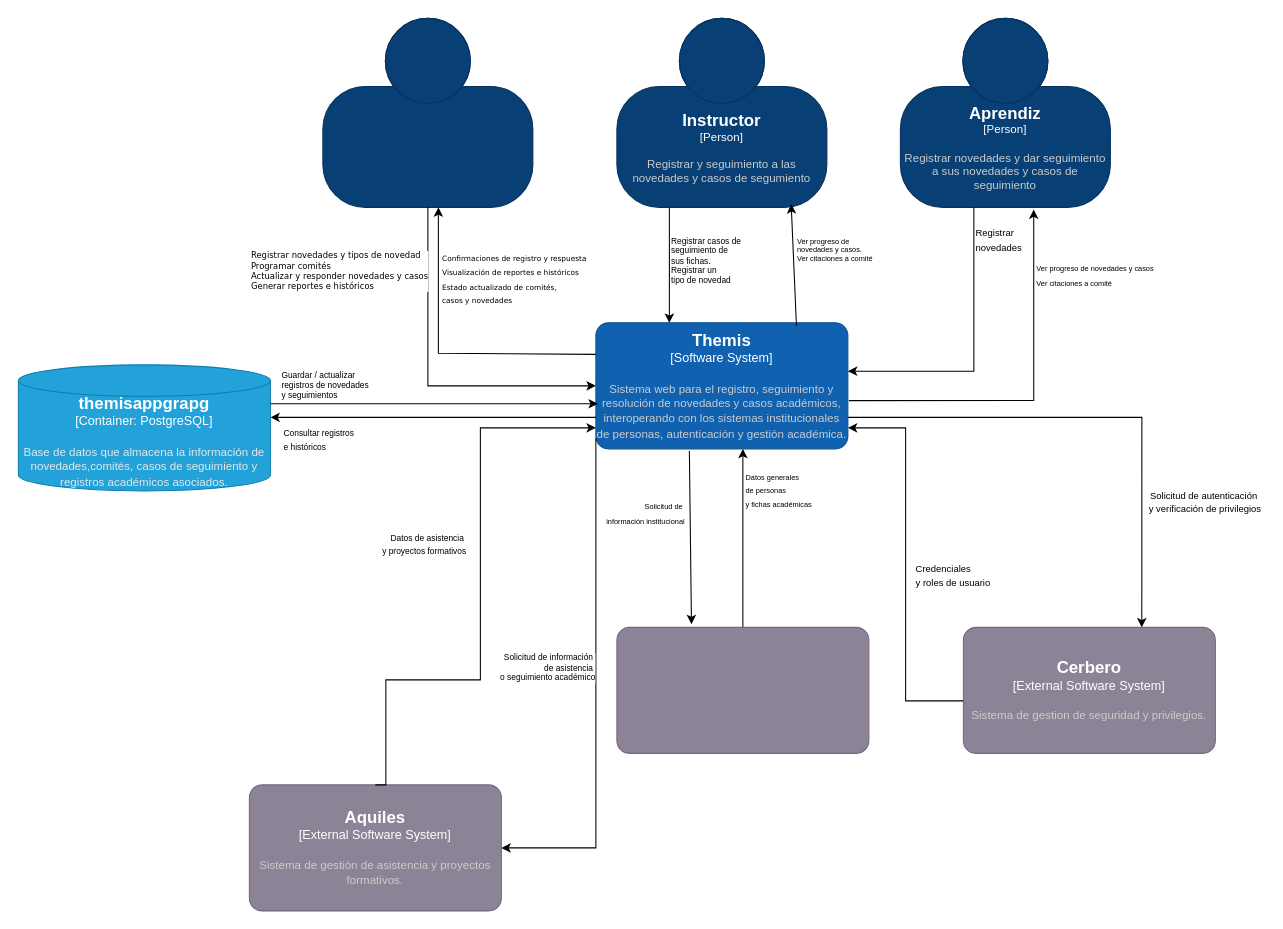
Some shapes in this 1283 by 929 pixel diagram are drawn without their labels. The centre of each missing label's shape, as x and y in pixels:
"Coordinador [Person] Control total del aplicativo" belongs at point (427, 112).
"Olympo [External Software System] Sistema de información general" belongs at point (742, 689).
